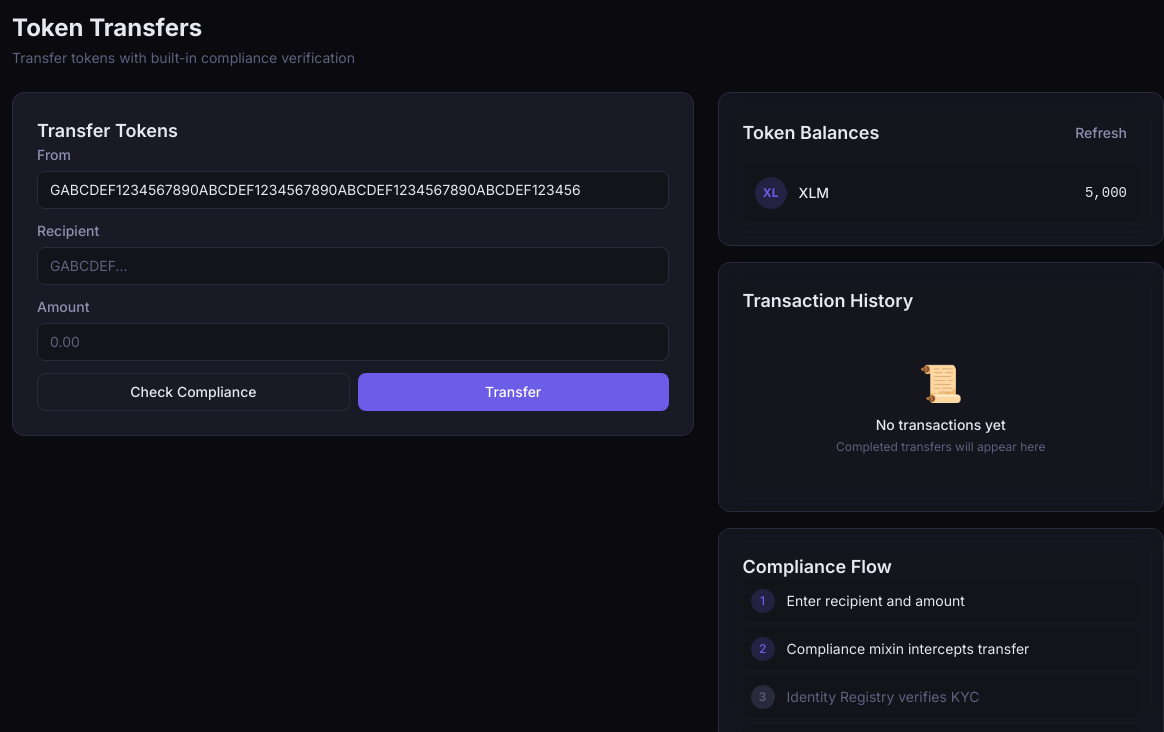
Test case: TransferPage — full flow › fills form and runs compliance check
In the field labelled "Recipient": (353, 266) [37,247,669,285], type "GXZZZ1234567890"
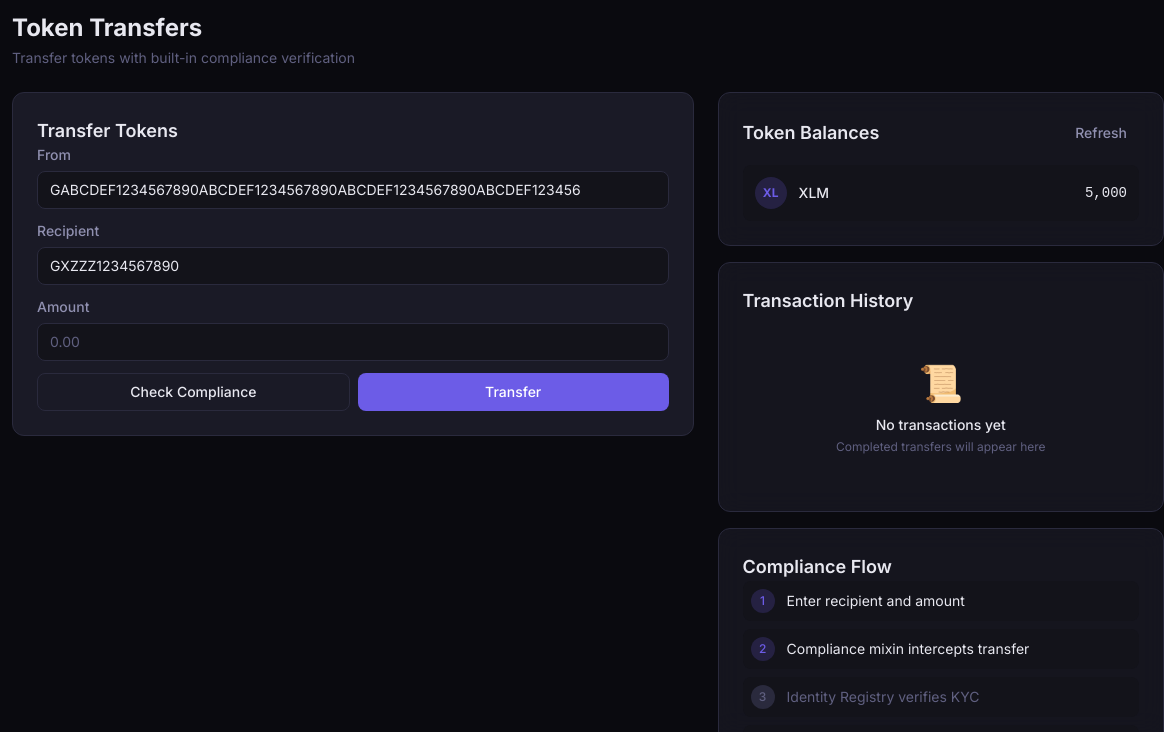
In the field labelled "Amount": (353, 342) [37,323,669,361], type "250"
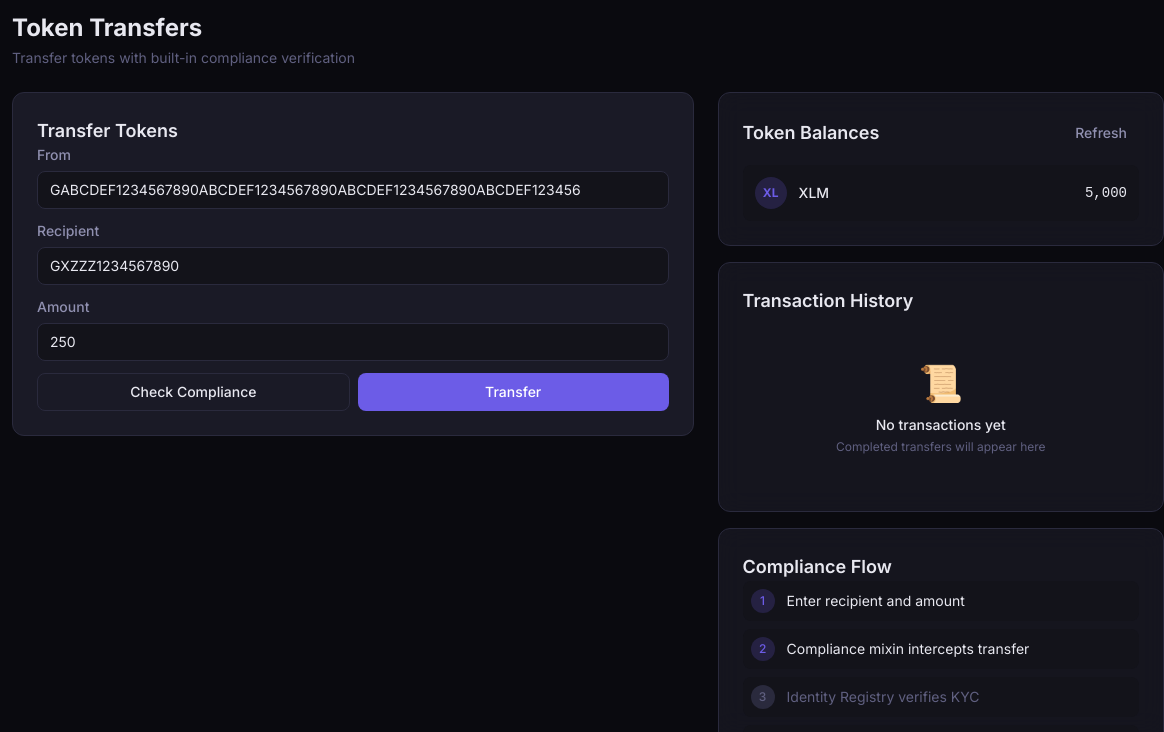
Click the button "Check Compliance": (193, 392) [37,373,350,411]
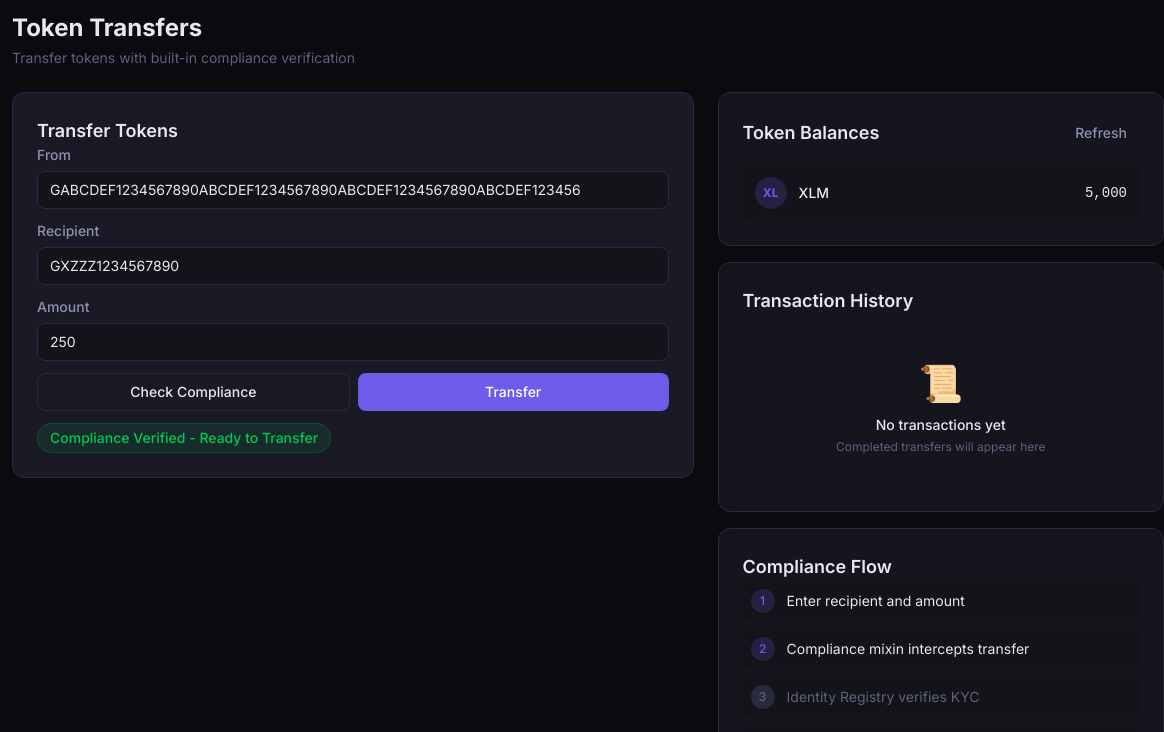
Now the text "Compliance Verified - Ready to Transfer" is shown, box [37,423,331,453]
